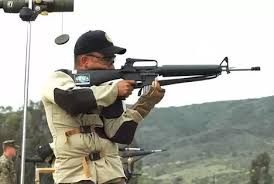Gun: (118, 54, 259, 92)
